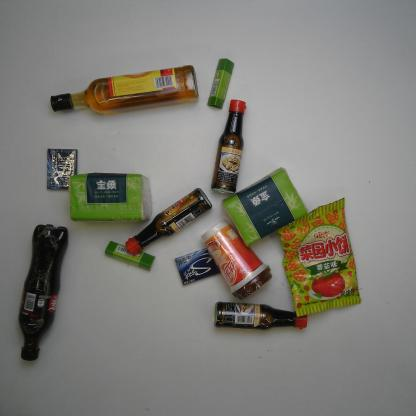Drink: (15, 222, 70, 363)
Gum: (174, 247, 221, 287), (46, 148, 78, 190)
Instant Drink: (198, 219, 275, 301)
Puffed Food: (274, 197, 362, 318)
Seasoner: (48, 63, 201, 115), (122, 186, 213, 260), (208, 99, 248, 194), (212, 299, 309, 331)
Stationery: (103, 240, 156, 272), (206, 56, 234, 109)
Tissue: (221, 165, 310, 248), (67, 171, 153, 223)
